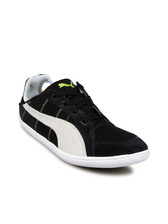shoes: (13, 67, 156, 169)
